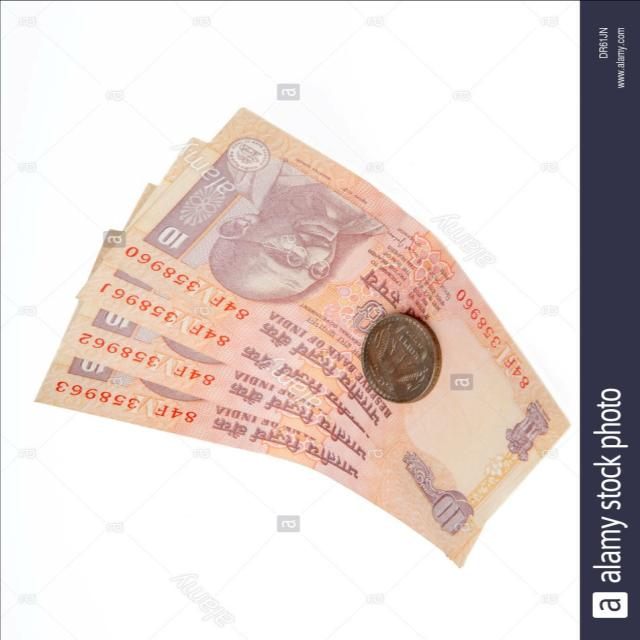10IndianRupees: (114, 108, 574, 562)
